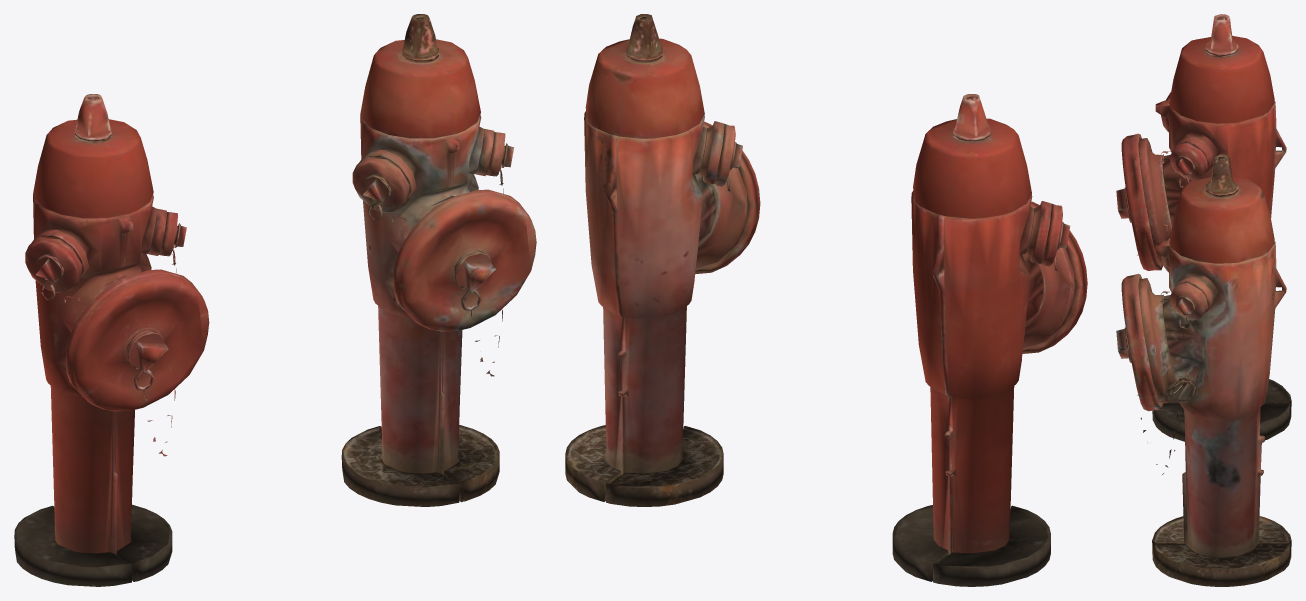
The model's file is fire_hydrant.glb.
3 renders of one model, left to right at view 1: azimuth 30°, elevation 25°; view 2: azimuth 150°, elevation 25°; view 3: azimuth 270°, elevation 25°, orthographic. The views are drawn at different scales.
Visible parts, largest first — view 1: fire_hydrant, fire_hydrant_aged; view 2: fire_hydrant, fire_hydrant_aged; view 3: fire_hydrant_aged, fire_hydrant.
Boxes of the visible parts, <box> form: fire_hydrant: <box>14,94,209,586</box>; fire_hydrant_aged: <box>341,14,536,506</box>; fire_hydrant: <box>892,94,1087,586</box>; fire_hydrant_aged: <box>565,14,760,506</box>; fire_hydrant_aged: <box>1116,154,1291,586</box>; fire_hydrant: <box>1116,14,1291,441</box>.
Bounding box in the file's own units: 0.8742 × 0.7994 × 0.3173.
Materials: 2 (2 with a texture image).
